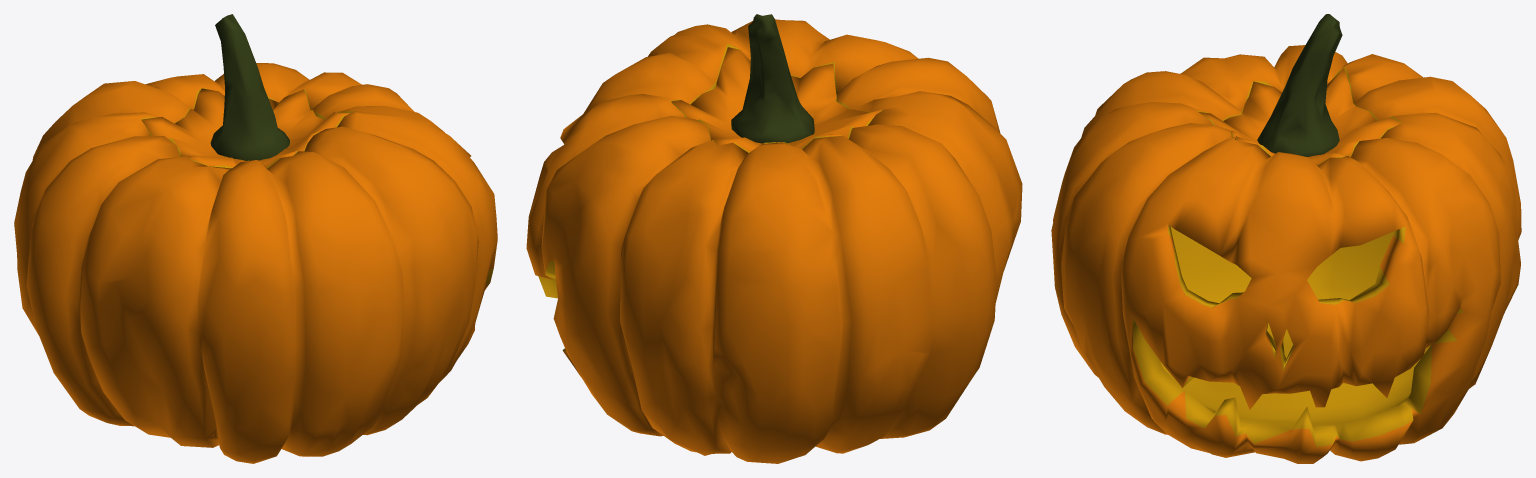
The model's file is pumpkin_less.glb.
The picture shows the model from 3 angles, left to right: view 1: azimuth 30°, elevation 25°; view 2: azimuth 150°, elevation 25°; view 3: azimuth 270°, elevation 25°; orthographic projection. The views are drawn at different scales.
Parts seen in each view (by area): view 1: Plane.011, Plane.003; view 2: Plane.011, Plane.003; view 3: Plane.011, Plane.003.
Part boxes in pixels (left/top/right/bottom): Plane.011: left=14, top=63, right=497, bottom=463; Plane.003: left=141, top=14, right=349, bottom=168; Plane.011: left=526, top=19, right=1022, bottom=463; Plane.003: left=671, top=14, right=881, bottom=152; Plane.011: left=1051, top=45, right=1521, bottom=463; Plane.003: left=1199, top=14, right=1400, bottom=165.
Size of the model in its own units: 0.245 by 0.2201 by 0.2402.
